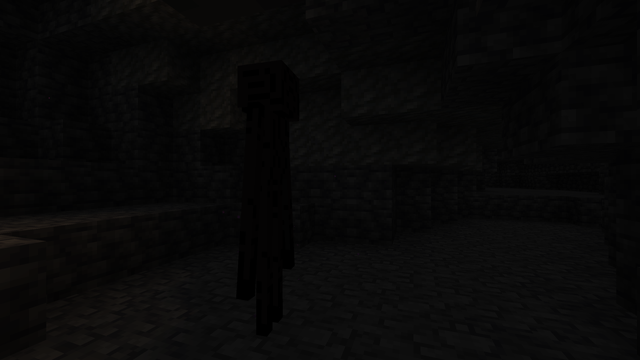endermens: (230, 47, 305, 347)
